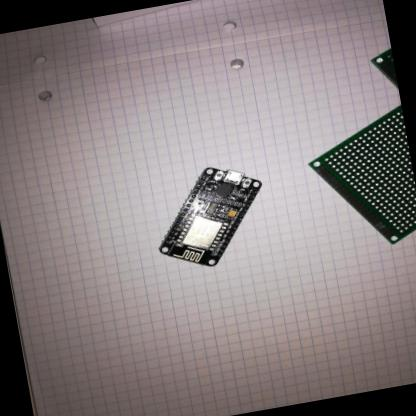ESP8266: (145, 157, 278, 278)
